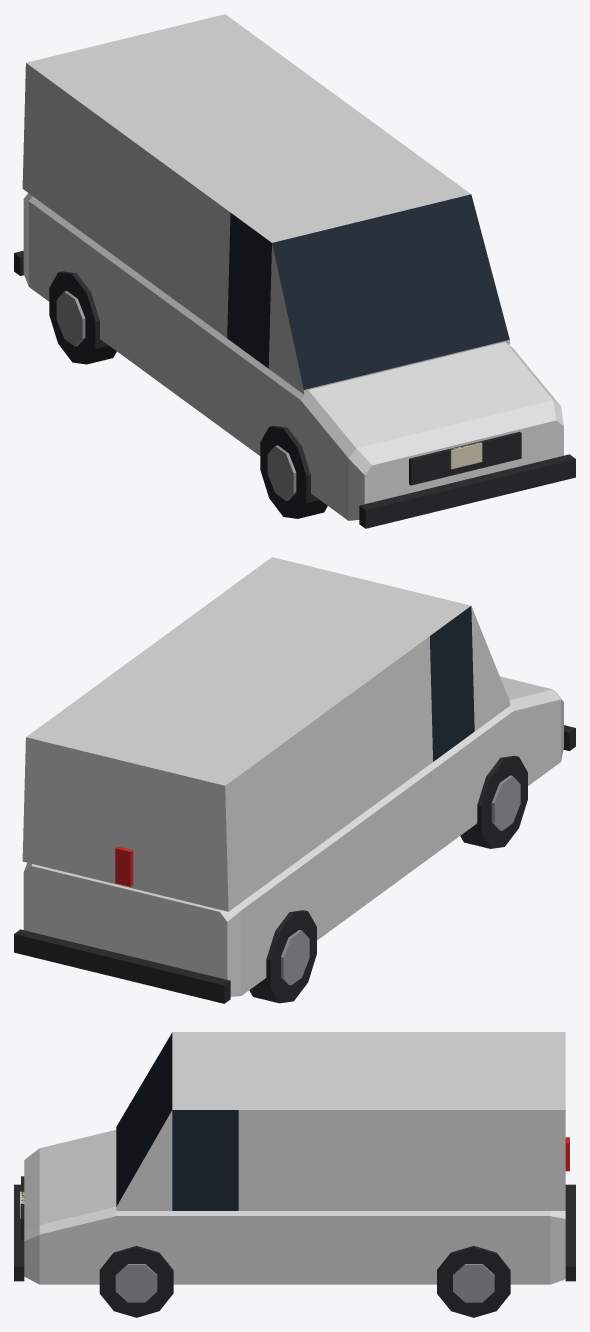
The model's file is voiture_camionnette.glb.
The picture shows the model from 3 angles, top to bottom: view 1: azimuth 30°, elevation 25°; view 2: azimuth 150°, elevation 25°; view 3: azimuth 270°, elevation 25°; orthographic projection. The views are drawn at different scales.
Parts seen in each view (by area): view 1: voiture_camionnette; view 2: voiture_camionnette; view 3: voiture_camionnette.
Boxes of the visible parts, bbox=[...] form: voiture_camionnette: bbox=[14, 14, 575, 528]; voiture_camionnette: bbox=[14, 557, 575, 1003]; voiture_camionnette: bbox=[14, 1032, 575, 1317].
Bounding box in the file's own units: 2.05 × 2.2 × 5.5.
